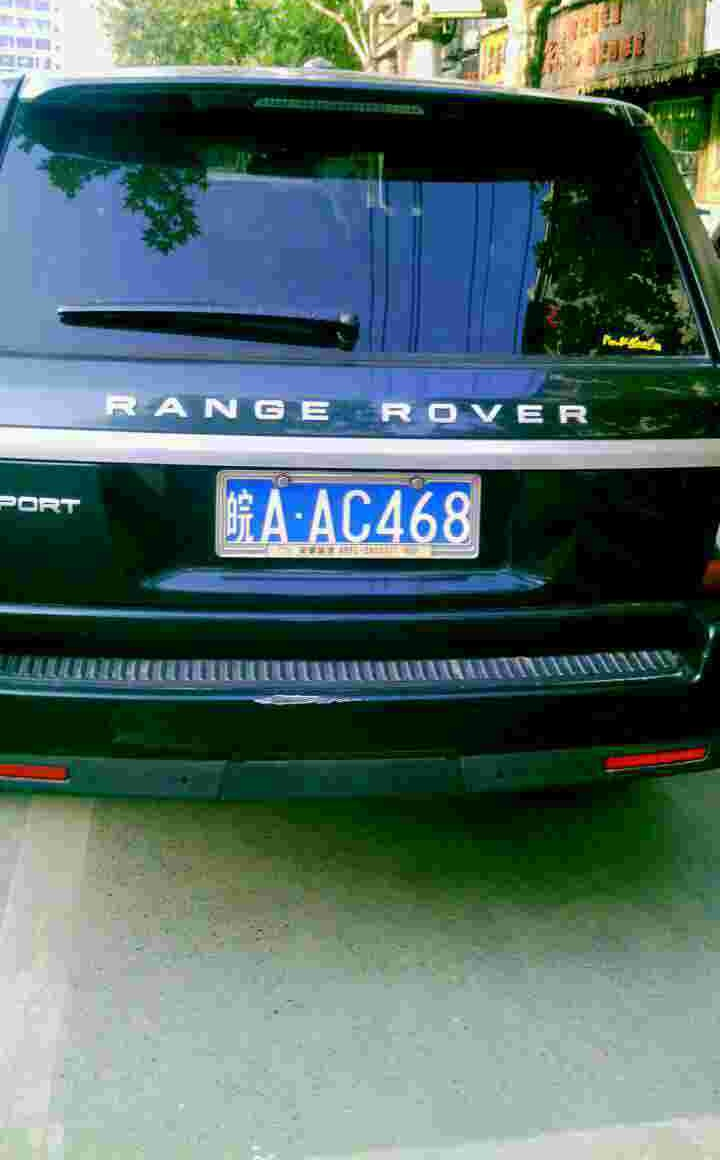plate: (221, 472, 486, 561)
